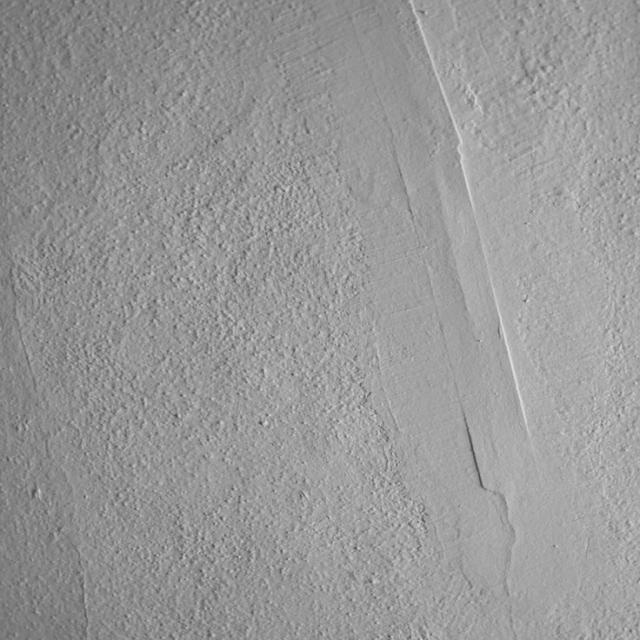trowels marks: (305, 0, 569, 640), (7, 239, 119, 640)
